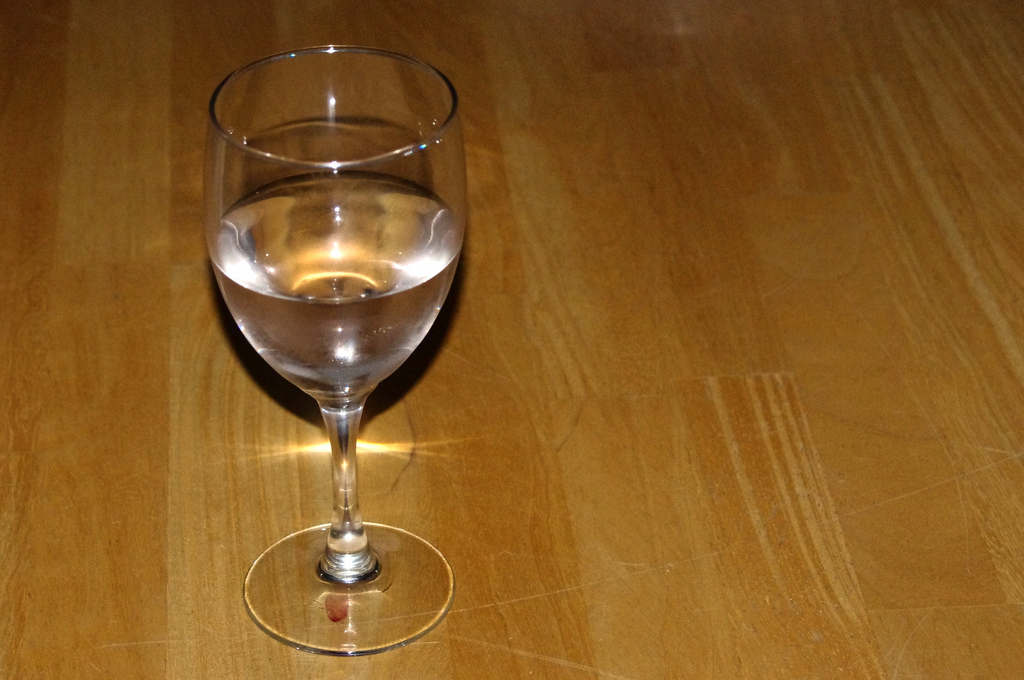glass of water: (198, 42, 470, 645)
